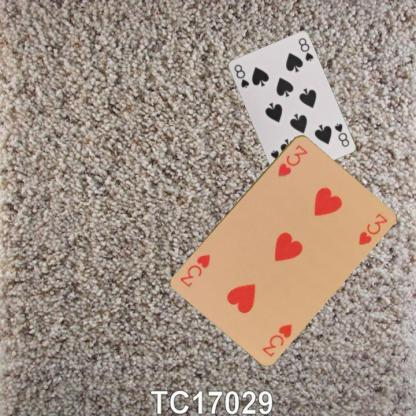3h: (260, 321, 294, 358), (275, 142, 309, 178)
8s: (231, 62, 250, 89), (332, 120, 350, 148)
